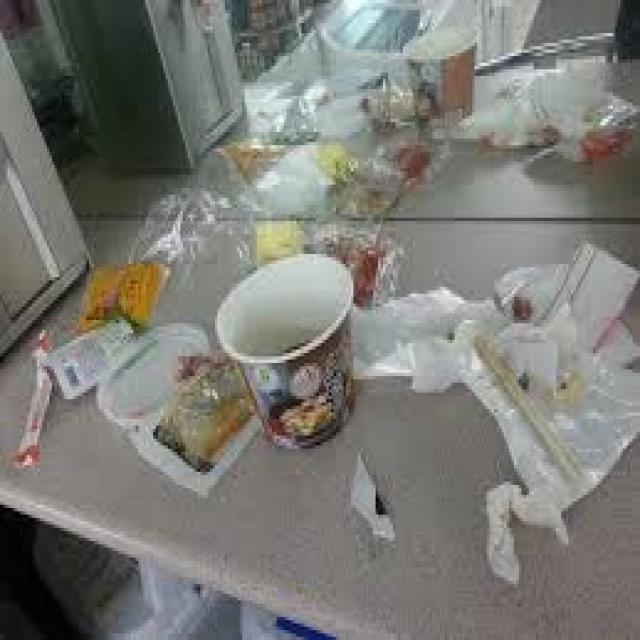Instant Noodle Cups: (211, 221, 383, 469)
paper: (10, 319, 67, 473)
plastic-bag: (42, 293, 152, 421)
plastic-bowl: (83, 304, 226, 443)
